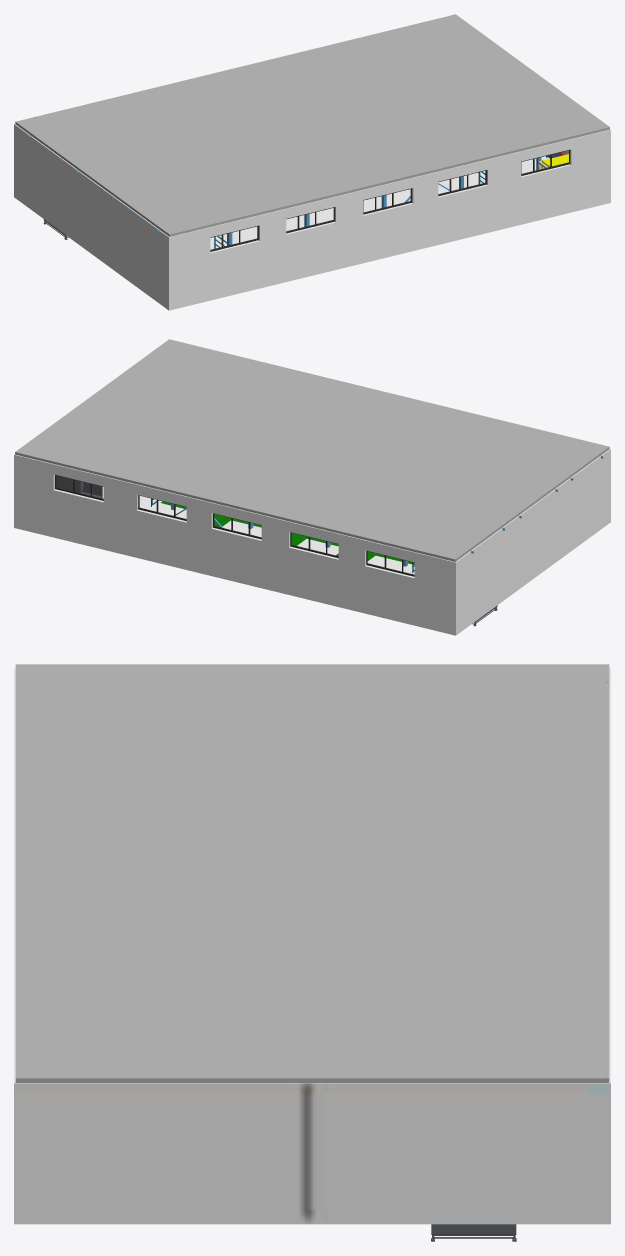
File: Static (1).glb
3 views of the same model, one above another, from view 1: azimuth 30°, elevation 25°; view 2: azimuth 150°, elevation 25°; view 3: azimuth 270°, elevation 25° (orthographic). The views are drawn at different scales.
Visible parts, largest first — view 1: Static; view 2: Static; view 3: Static.
Boxes of the visible parts, box(x1,y1,x2,y2) form: Static: box(14, 14, 610, 310); Static: box(14, 339, 610, 635); Static: box(14, 664, 610, 1241).
Bounding box in the file's own units: 21.7 × 3.99 × 13.13.
18 materials, 10 textured.
